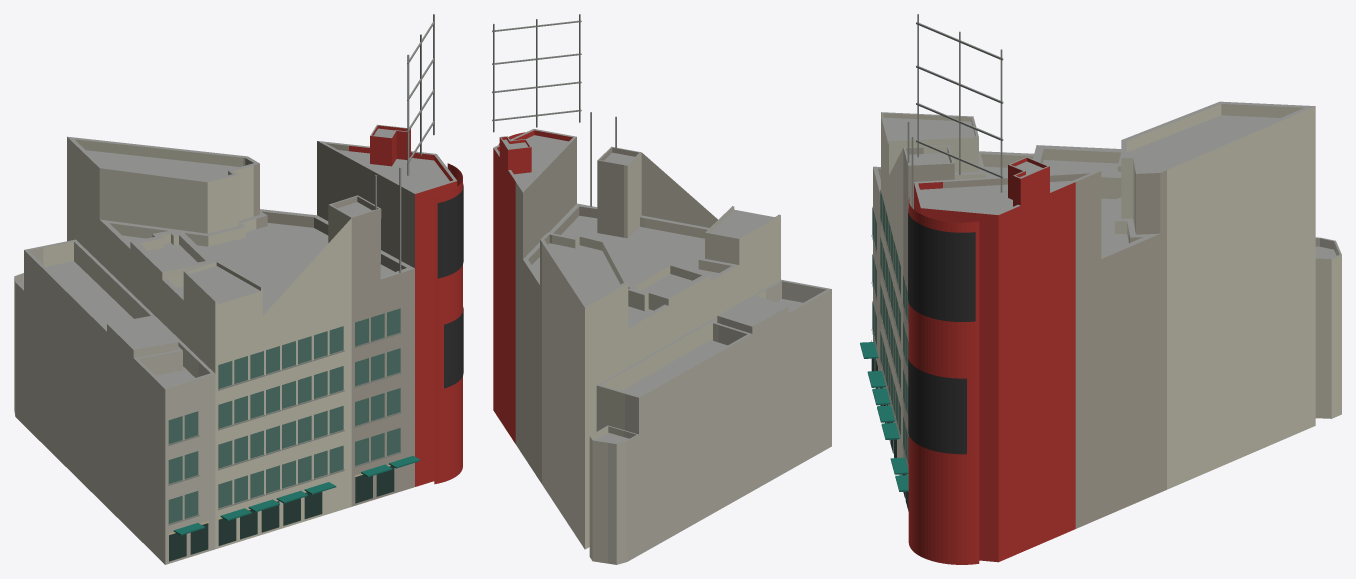
The model's file is west-block.glb.
The picture shows the model from 3 angles, left to right: view 1: azimuth 30°, elevation 25°; view 2: azimuth 150°, elevation 25°; view 3: azimuth 270°, elevation 25°; orthographic projection. The views are drawn at different scales.
Parts seen in each view (by area): view 1: west_wall_fruit, west_wall_pharmacy, west_roof, west_wall_middle, west_glass, west_wall_corner, west_shop_glass, west_screen_back, west_frame, west_awning; view 2: west_wall_pharmacy, west_wall_fruit, west_roof, west_wall_middle, west_wall_corner, west_frame; view 3: west_wall_fruit, west_wall_corner, west_wall_middle, west_roof, west_screen_back, west_glass, west_frame, west_awning, west_wall_pharmacy.
Boxes of the visible parts, <box> form: west_wall_fruit: <box>23,137,351,549</box>; west_wall_pharmacy: <box>14,248,215,564</box>; west_roof: <box>14,124,456,389</box>; west_wall_middle: <box>243,141,414,506</box>; west_glass: <box>168,308,400,523</box>; west_wall_corner: <box>349,125,462,486</box>; west_shop_glass: <box>169,466,394,561</box>; west_screen_back: <box>437,184,463,388</box>; west_frame: <box>168,14,434,525</box>; west_awning: <box>173,456,420,535</box>; west_wall_pharmacy: <box>608,281,831,564</box>; west_wall_fruit: <box>542,152,780,563</box>; west_roof: <box>493,129,831,443</box>; west_wall_middle: <box>515,137,638,483</box>; west_wall_corner: <box>493,130,572,443</box>; west_frame: <box>492,14,616,206</box>; west_wall_fruit: <box>881,104,1341,489</box>; west_wall_corner: <box>908,158,1075,564</box>; west_wall_middle: <box>903,147,1166,528</box>; west_roof: <box>873,101,1341,259</box>; west_screen_back: <box>908,209,975,454</box>; west_glass: <box>872,190,908,464</box>; west_frame: <box>871,14,1003,468</box>; west_awning: <box>860,342,908,491</box>; west_wall_pharmacy: <box>873,168,1335,388</box>.
Bounding box in the file's own units: 32.95 × 41.25 × 35.2.
